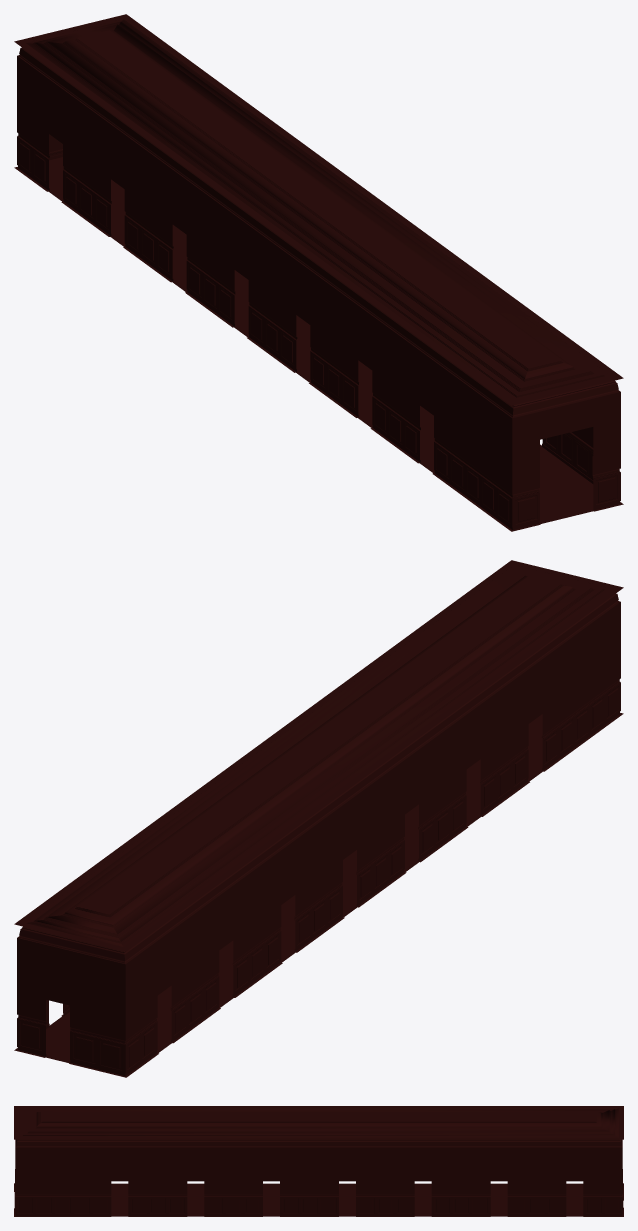
Rendered from end_hallway.fbx.
3 renders of one model, top to bottom at view 1: azimuth 30°, elevation 25°; view 2: azimuth 150°, elevation 25°; view 3: azimuth 270°, elevation 25°, orthographic. The views are drawn at different scales.
Parts seen in each view (by area): view 1: hallway, ceiling, floor; view 2: hallway, ceiling, floor; view 3: hallway, ceiling, floor.
Part boxes in pixels (x1,y1,x2,y2): hallway: (14, 14, 623, 531); ceiling: (22, 19, 611, 402); floor: (16, 157, 621, 530); hallway: (14, 560, 623, 1077); ceiling: (26, 565, 615, 948); floor: (16, 713, 621, 1076); hallway: (14, 1106, 623, 1216); ceiling: (19, 1108, 618, 1137); floor: (14, 1183, 623, 1216).
Bounding box in the file's own units: 165 × 1267 × 192.
